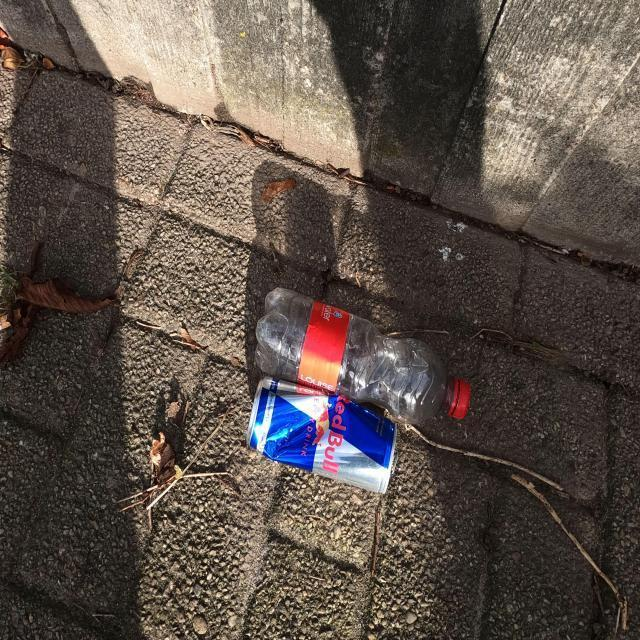Can-Metal: (245, 376, 402, 494)
